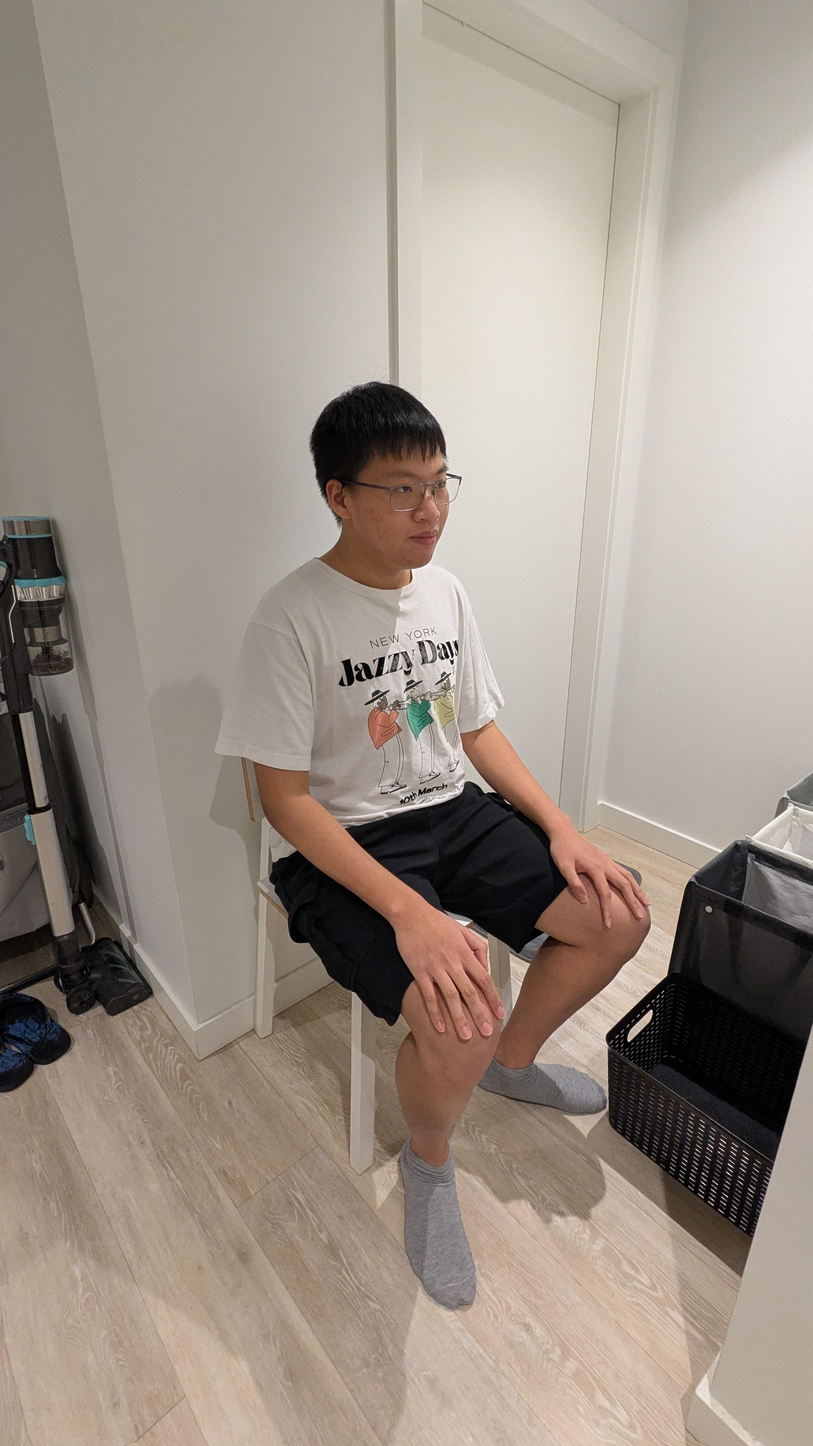GoodPosture: (215, 382, 651, 1309)
